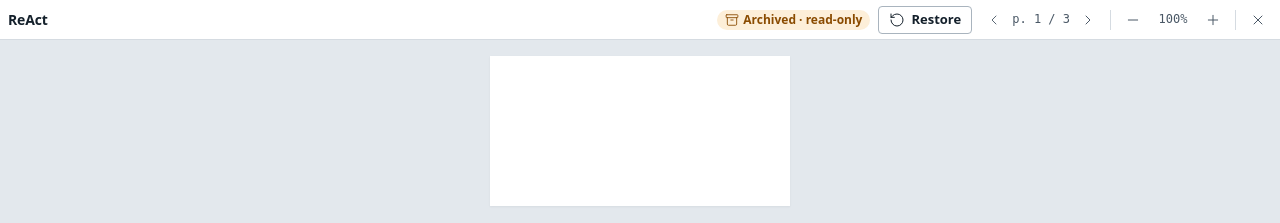
Test: DocumentViewer › says when restoring failed
Click the button "Restore" at (925, 20), box [878,6,972,34]
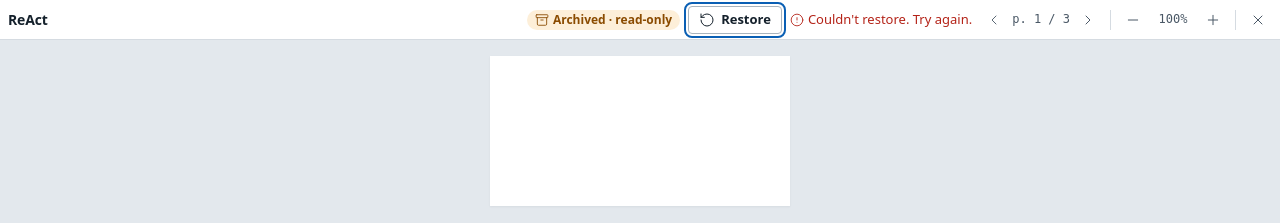
Expected: the text "Archived · read-only" is shown, [527,10,680,30]
Expected: the text "Couldn't restore. Try again." is shown, [790,10,972,29]
